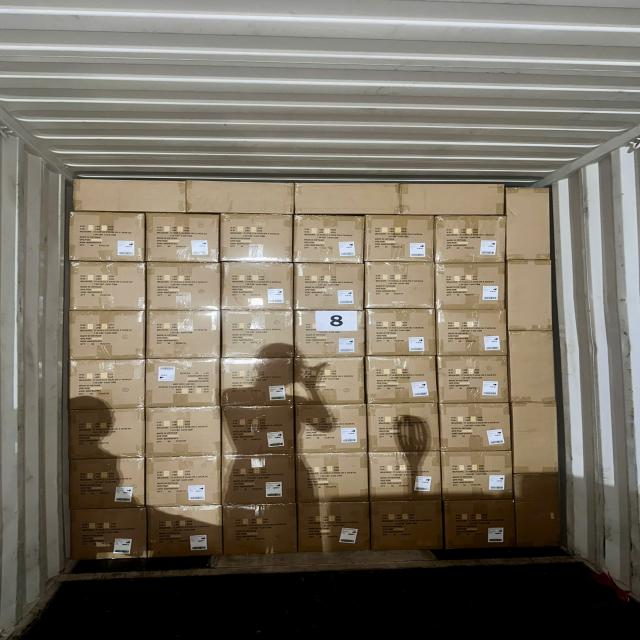Carton: (292, 180, 404, 216), (149, 508, 225, 561), (73, 458, 148, 510), (76, 179, 184, 215), (74, 510, 150, 561), (514, 473, 564, 550), (190, 180, 294, 217), (145, 458, 221, 508), (222, 507, 298, 557), (72, 408, 148, 458), (73, 210, 147, 261), (298, 505, 372, 556), (144, 407, 221, 456), (69, 358, 146, 407), (368, 453, 443, 503), (222, 456, 297, 506), (72, 312, 148, 361), (147, 212, 221, 262), (297, 454, 371, 504), (73, 262, 148, 311), (371, 503, 444, 553), (222, 212, 295, 262), (146, 357, 222, 405), (222, 406, 296, 455), (365, 403, 439, 452), (222, 356, 296, 405), (511, 327, 559, 402), (220, 314, 295, 362), (442, 452, 514, 502), (444, 503, 517, 552), (148, 263, 222, 311), (148, 312, 222, 360), (515, 399, 562, 474), (222, 263, 295, 311), (366, 355, 439, 403), (297, 405, 369, 453), (442, 404, 514, 452), (436, 213, 506, 262), (509, 184, 554, 260), (440, 355, 512, 402), (296, 263, 366, 311), (295, 214, 365, 262), (366, 213, 436, 261), (433, 263, 504, 310), (364, 263, 435, 310), (406, 184, 506, 217), (296, 356, 366, 403), (296, 312, 366, 359), (437, 312, 508, 358), (506, 260, 552, 330), (367, 312, 437, 358)
